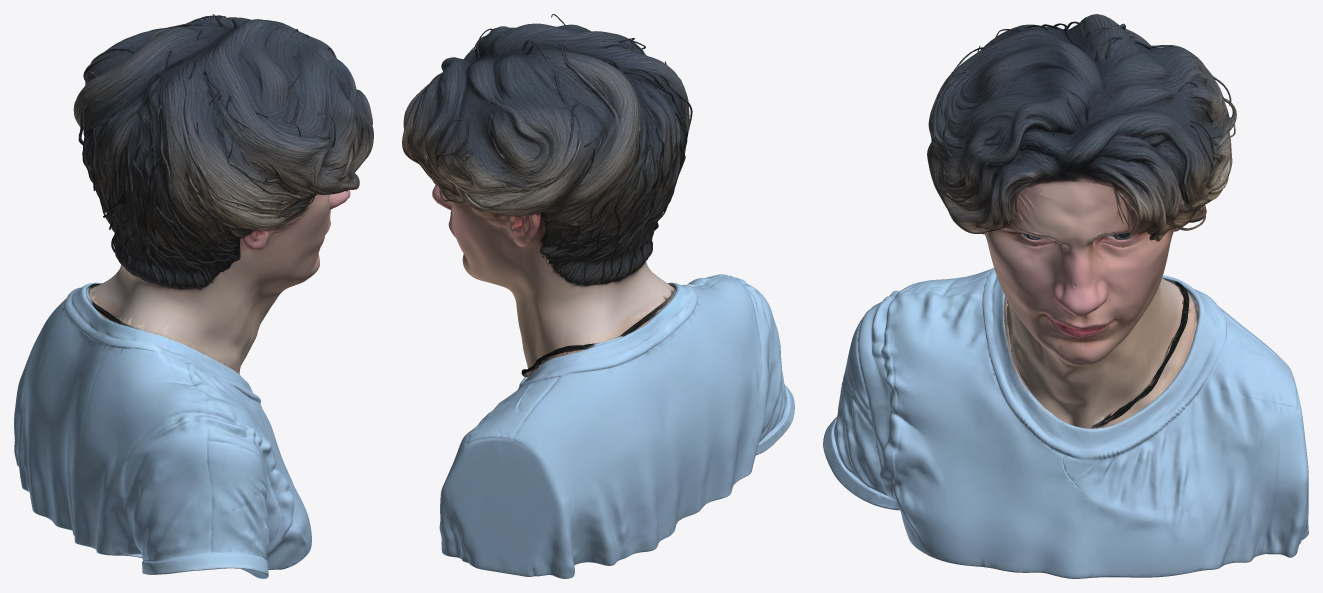
File: nicolo.glb
3 renders of one model, left to right at view 1: azimuth 30°, elevation 25°; view 2: azimuth 150°, elevation 25°; view 3: azimuth 270°, elevation 25°, orthographic. The views are drawn at different scales.
Parts seen in each view (by area): view 1: tripo_node_b7fae561-740d-48ad-9343-f086506ac825; view 2: tripo_node_b7fae561-740d-48ad-9343-f086506ac825; view 3: tripo_node_b7fae561-740d-48ad-9343-f086506ac825.
Boxes of the visible parts, x1,y1,x2,y2 form: tripo_node_b7fae561-740d-48ad-9343-f086506ac825: (14,14,373,578); tripo_node_b7fae561-740d-48ad-9343-f086506ac825: (402,14,794,578); tripo_node_b7fae561-740d-48ad-9343-f086506ac825: (823,14,1308,578).
Bounding box in the file's own units: 0.6398 × 0.9794 × 0.8393.
1 material, 1 textured.
